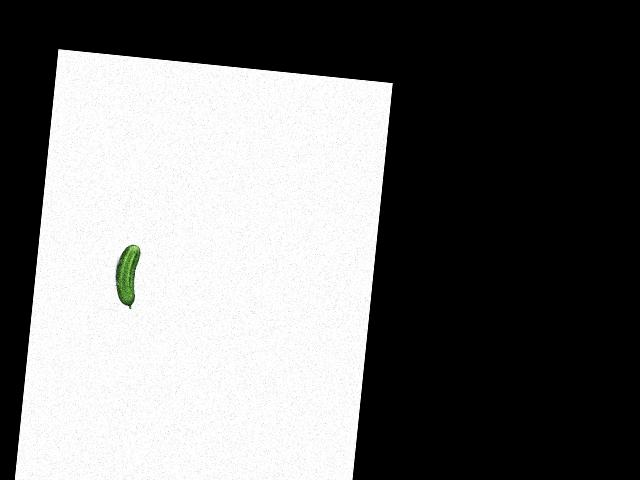cucumber: (112, 243, 140, 309)
